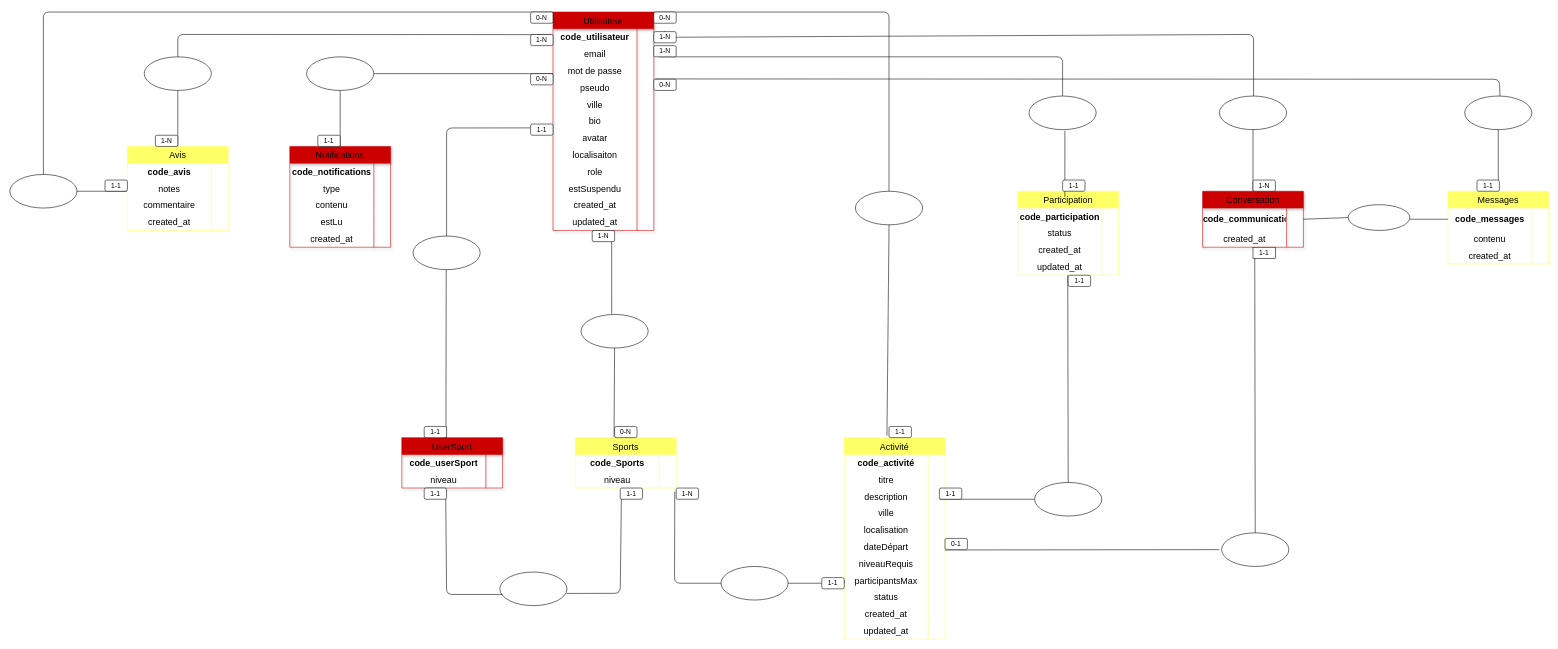
Some shapes in this 1558 by 649 pixel diagram are drawn without their labels. Here are the shapes that lost their labels. From the top down, the centre of each, then its label:
At point 177,73: "REDIGER".
At point 340,73: "OBTENIR".
At point 1062,112: "PARTICIPER".
At point 1253,112: "CONCERNER".
At point 1498,112: "ENVOYER".
At point 43,191: "RECEVOIR".
At point 889,208: "CREER".
At point 1379,217: "CONTENIR".
At point 446,252: "AVOIR".
At point 614,331: "PRATIQUER".
At point 1068,499: "APPARTENIR".
At point 1255,549: "POSSEDER".
At point 533,588: "ASSOCIER".
At point 754,583: "RELIER".
